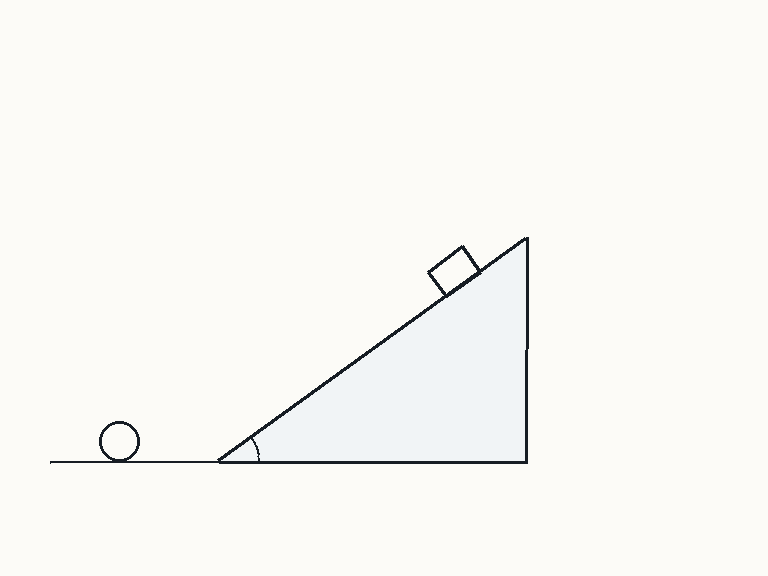ball: (97, 419, 141, 463)
block: (426, 245, 482, 298)
ramp: (217, 236, 528, 463)
